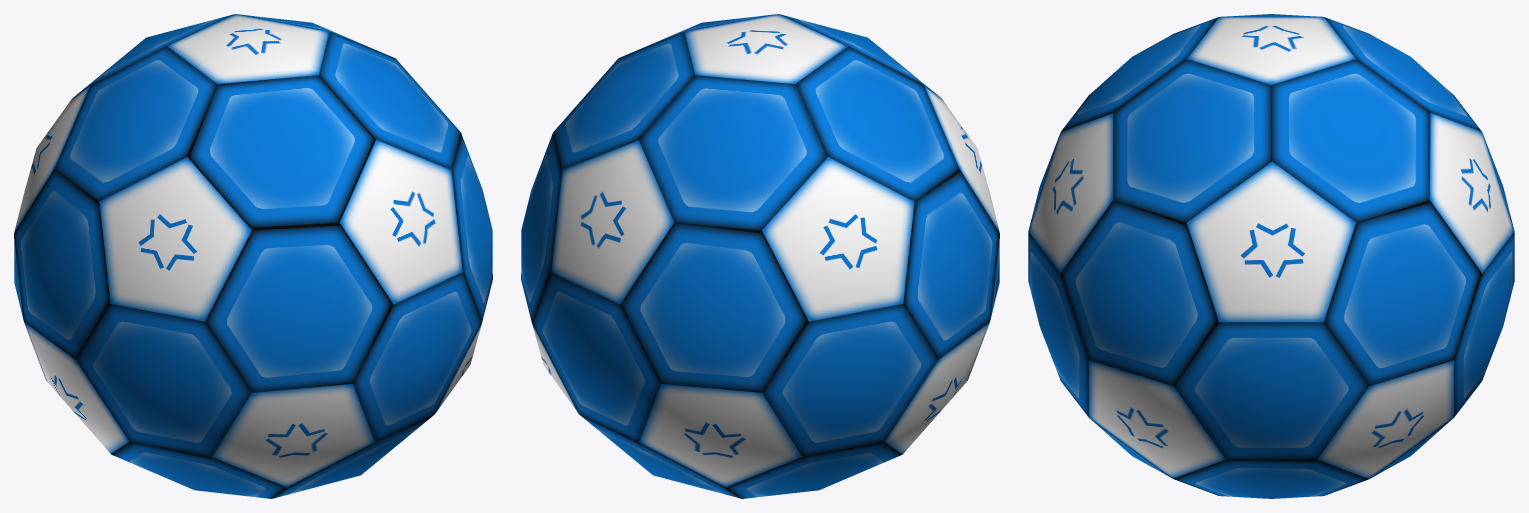
Rendered from Ball5.FBX.
The picture shows the model from 3 angles, left to right: view 1: azimuth 30°, elevation 25°; view 2: azimuth 150°, elevation 25°; view 3: azimuth 270°, elevation 25°; orthographic projection.
Visible parts, largest first — view 1: Ball5; view 2: Ball5; view 3: Ball5.
Part boxes in pixels (x1=…): Ball5: x1=14, y1=14, x2=492, y2=498; Ball5: x1=521, y1=14, x2=999, y2=498; Ball5: x1=1028, y1=14, x2=1514, y2=498.
Size of the model in its own units: 47.91 by 48.62 by 47.79.
